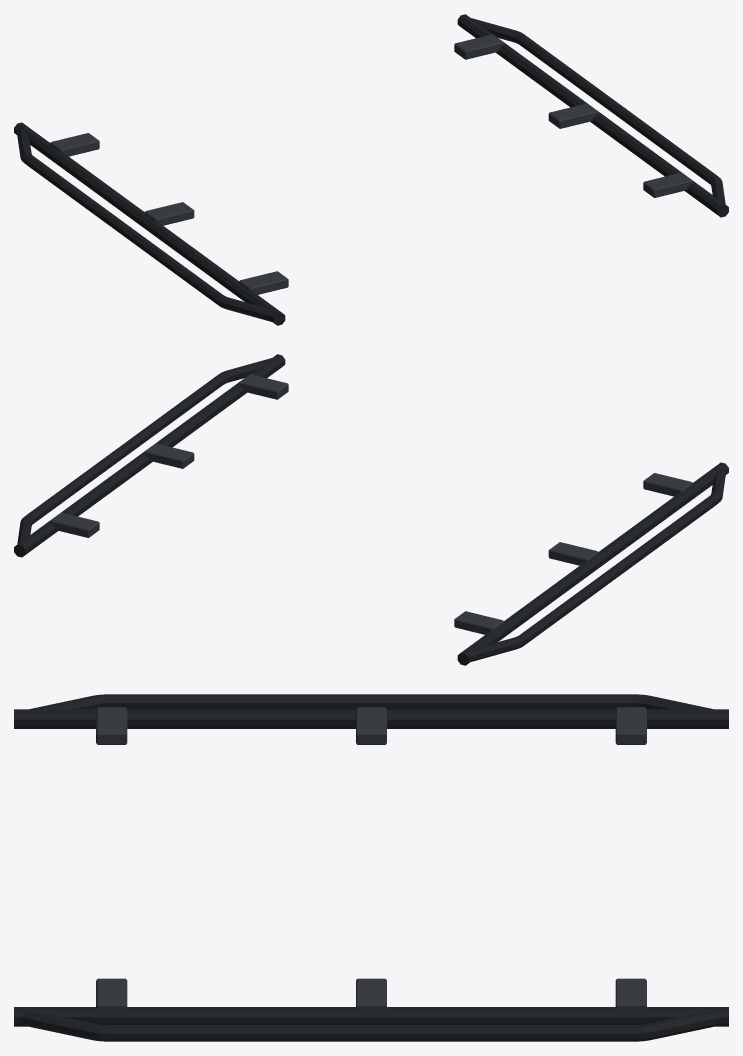
Rendered from ridgeback_4x4_rock_sliders.glb.
3 views of the same model, one above another, from view 1: azimuth 30°, elevation 25°; view 2: azimuth 150°, elevation 25°; view 3: azimuth 270°, elevation 25° (orthographic). The views are drawn at different scales.
Parts seen in each view (by area): view 1: model; view 2: model; view 3: model.
Part boxes in pixels (x1,y1,x2,y2): model: (14, 14, 728, 325); model: (14, 354, 728, 665); model: (14, 694, 728, 1041).
Bounding box in the file's own units: 2.04 × 0.058 × 1.83.
1 material, 1 textured.
